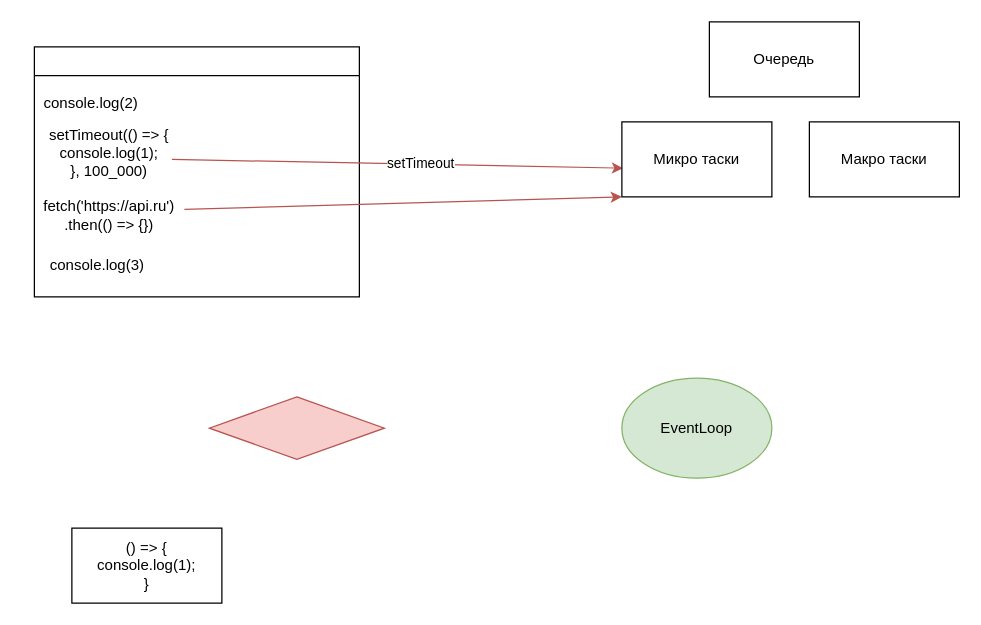
The diagram is 981 pixels wide and 625 high, and some of its shapes have lost their labels. Each missing label, with the box of its shape:
Code: (33, 46, 359, 297)
Интерпретатор: (208, 396, 384, 459)
